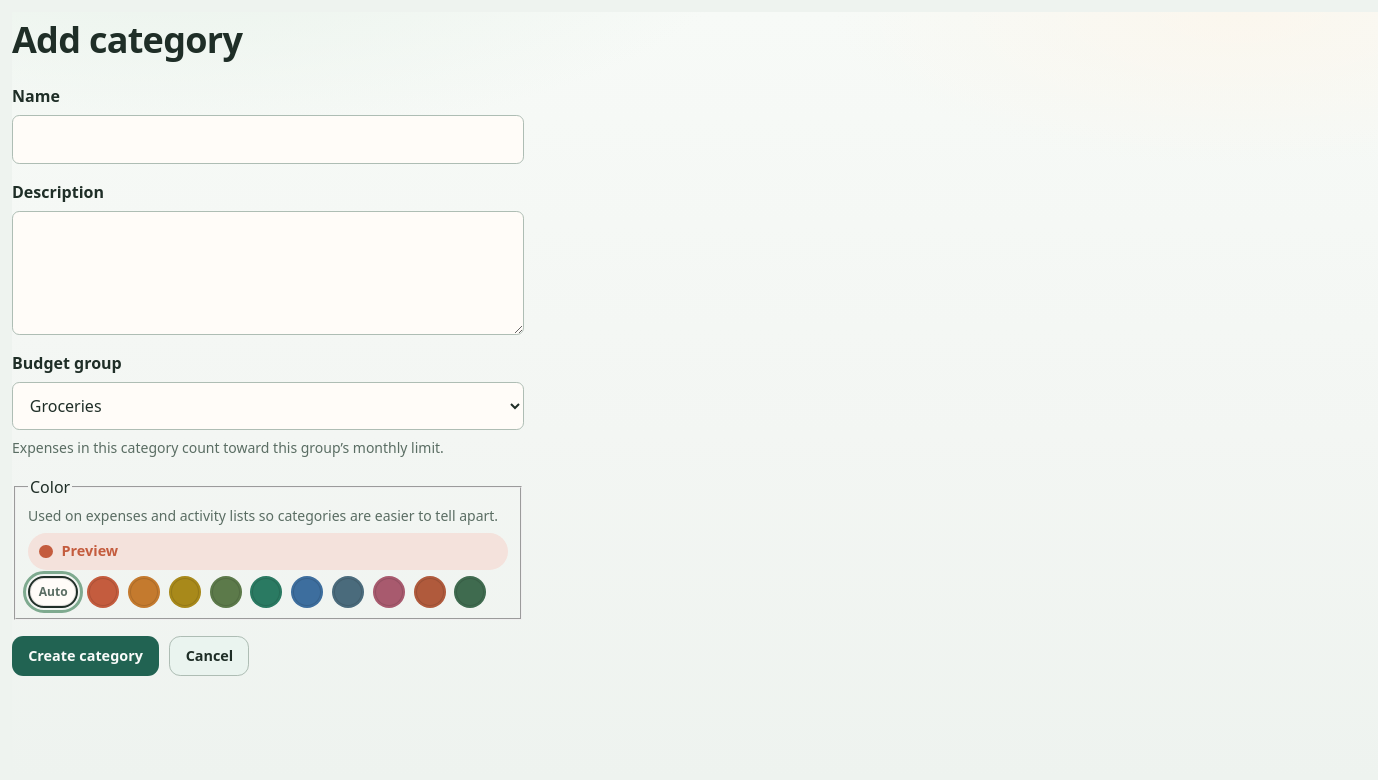
CategoryForm › rejects a blank name
This screenshot has width=1378, height=780.
Click the button "Create category": (86, 656) [12,636,159,676]
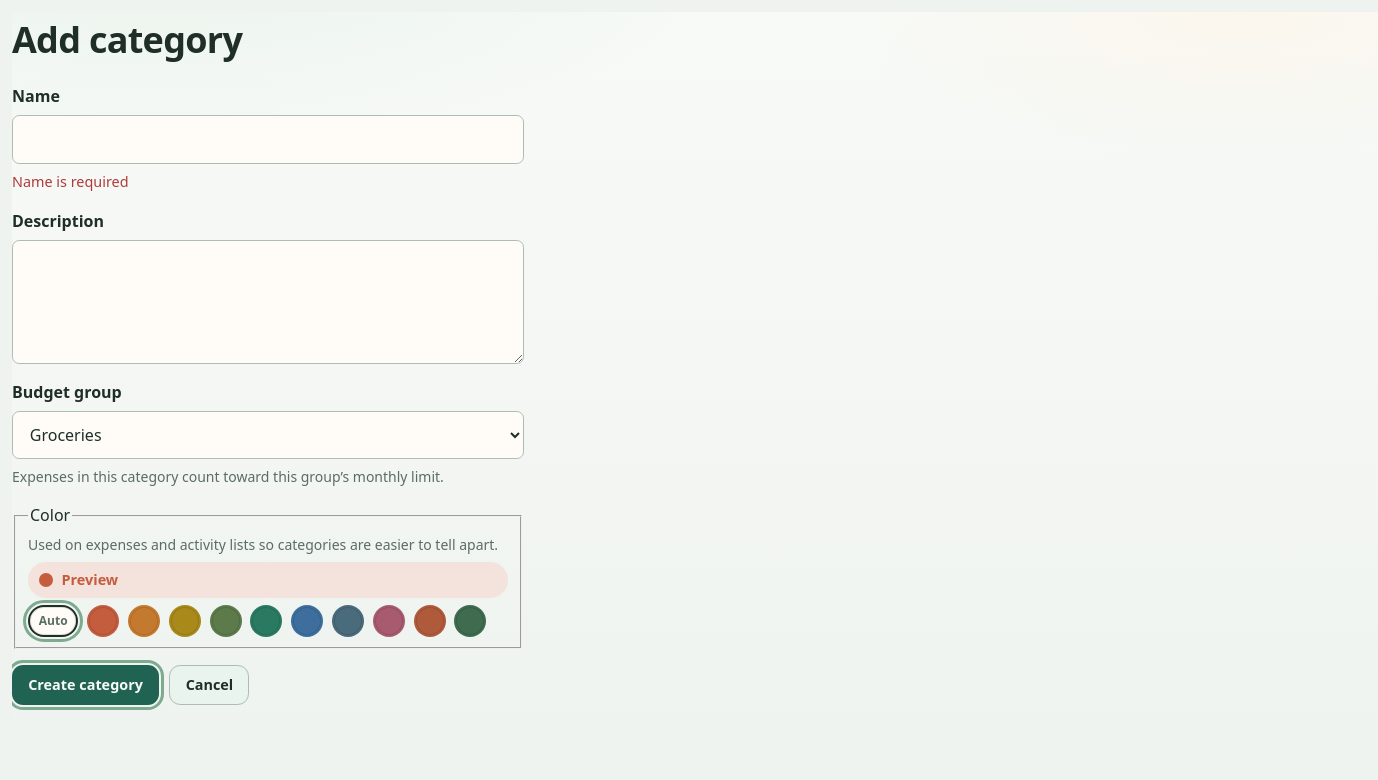
Now the message reads "Name is required", box [12,172,128,190]
